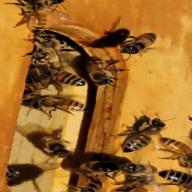Bee: (15, 93, 90, 116), (9, 0, 60, 32), (122, 27, 170, 59), (39, 62, 91, 87), (128, 115, 162, 153), (153, 164, 192, 190)
